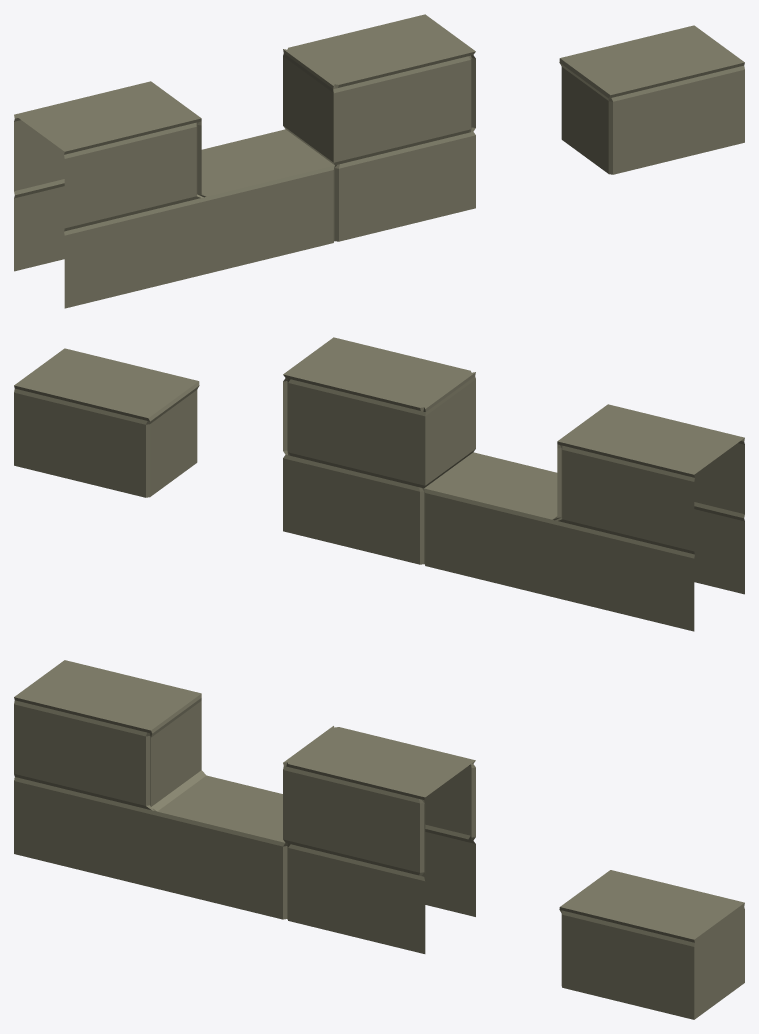
The model's file is Wall_build_mat.fbx.
The picture shows the model from 3 angles, top to bottom: view 1: azimuth 30°, elevation 25°; view 2: azimuth 150°, elevation 25°; view 3: azimuth 330°, elevation 25°; orthographic projection.
Visible parts, largest first — view 1: Wall_build_mat; view 2: Wall_build_mat; view 3: Wall_build_mat.
Boxes of the visible parts, x1,y1,x2,y2 form: Wall_build_mat: (14, 14, 744, 308); Wall_build_mat: (14, 337, 744, 631); Wall_build_mat: (14, 660, 744, 1019).
Size of the model in its own units: 411 by 90.52 by 53.07.
